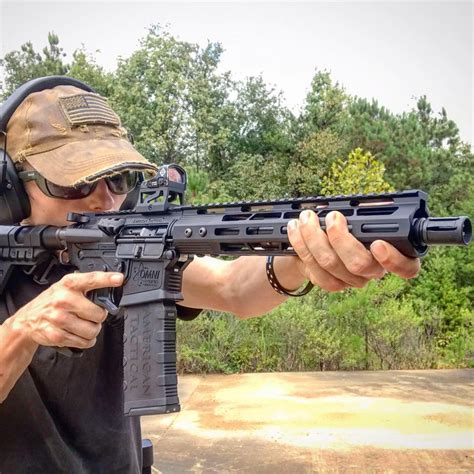gun: (2, 164, 474, 418)
